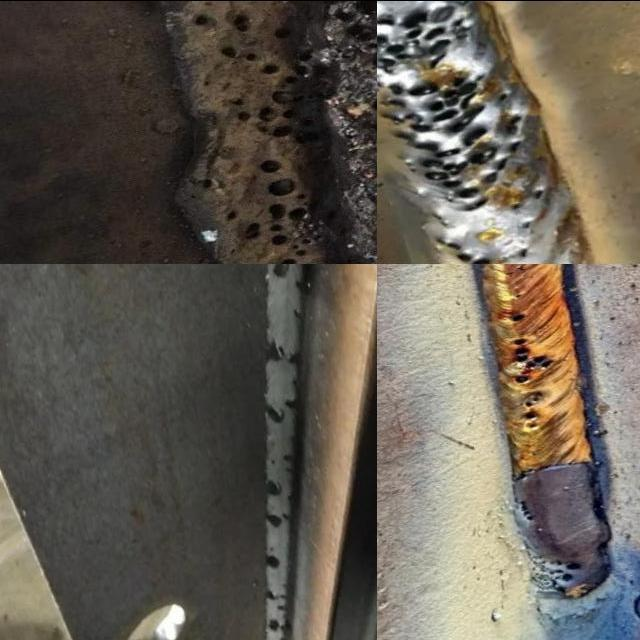defect: (377, 0, 532, 216), (189, 9, 325, 148), (225, 154, 322, 263), (328, 0, 377, 81), (506, 333, 561, 386), (523, 544, 584, 590), (428, 228, 498, 263), (186, 169, 231, 192), (521, 391, 545, 431), (264, 331, 287, 365), (263, 583, 287, 612), (262, 543, 281, 571), (264, 403, 285, 427), (264, 511, 291, 529), (271, 263, 294, 284), (517, 498, 535, 523), (509, 245, 535, 260), (294, 276, 313, 296), (265, 476, 281, 499), (266, 615, 285, 634), (283, 394, 302, 411), (502, 264, 525, 277), (507, 310, 531, 322), (282, 453, 294, 476), (287, 349, 301, 366), (530, 188, 546, 201), (291, 307, 304, 321), (518, 220, 536, 230), (508, 201, 523, 210), (509, 292, 523, 301), (288, 379, 300, 388), (268, 455, 277, 466)
